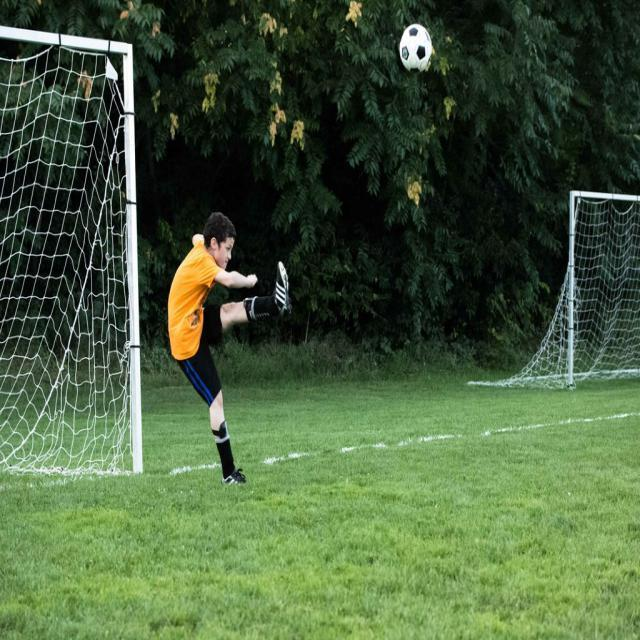football: (389, 20, 444, 75)
